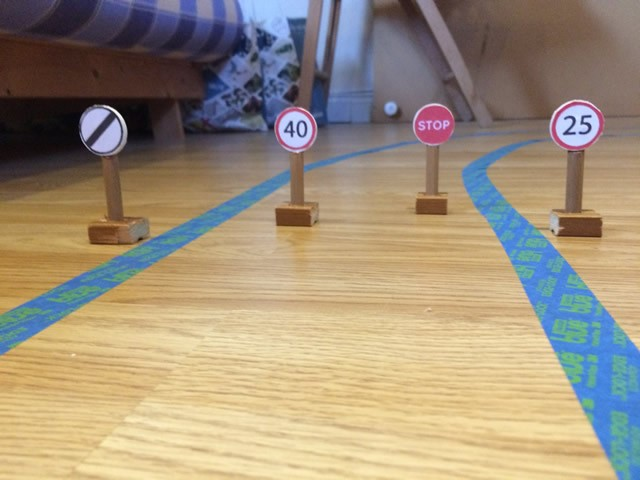Speed Limit 25: (550, 101, 604, 147)
Speed Limit 40: (273, 107, 318, 154)
Speed Limit 60: (75, 104, 130, 153)
Stop Sign: (415, 104, 454, 143)
